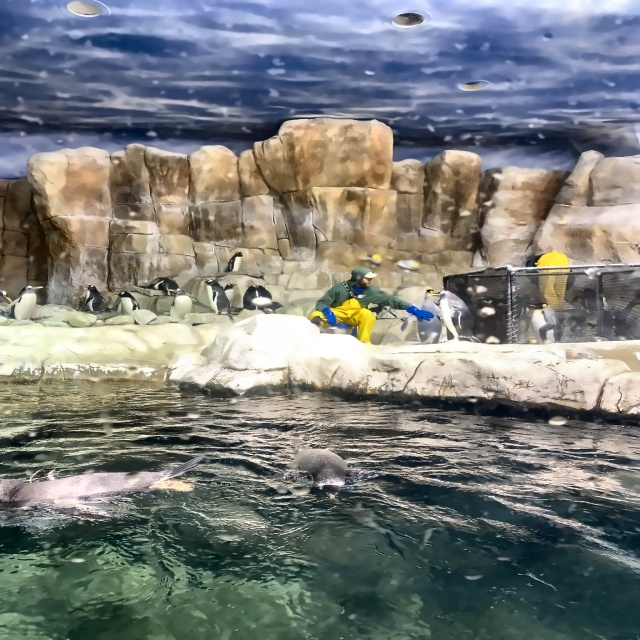penguin: (0, 458, 206, 520), (294, 445, 355, 501), (432, 289, 480, 343), (401, 289, 445, 343), (6, 285, 46, 323), (200, 279, 235, 321), (528, 302, 563, 343), (84, 284, 110, 312), (256, 285, 281, 314), (580, 288, 605, 315), (114, 292, 140, 314), (141, 278, 178, 292), (244, 284, 259, 310), (225, 282, 237, 310), (228, 251, 244, 272)
